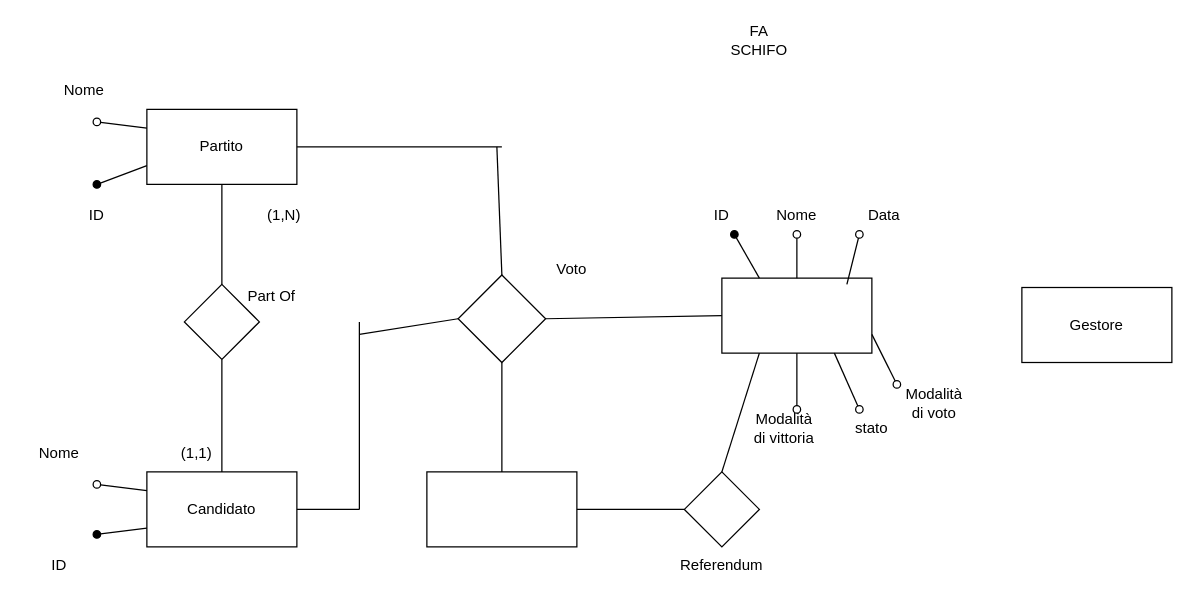
This 1194x605 diagram has some shape labels left out. Here are the shapes that lost their labels. From the top down, the centre of each, then its label:
At (x=796, y=315): "Sessione di Voto".
At (x=501, y=509): "Elettore".
